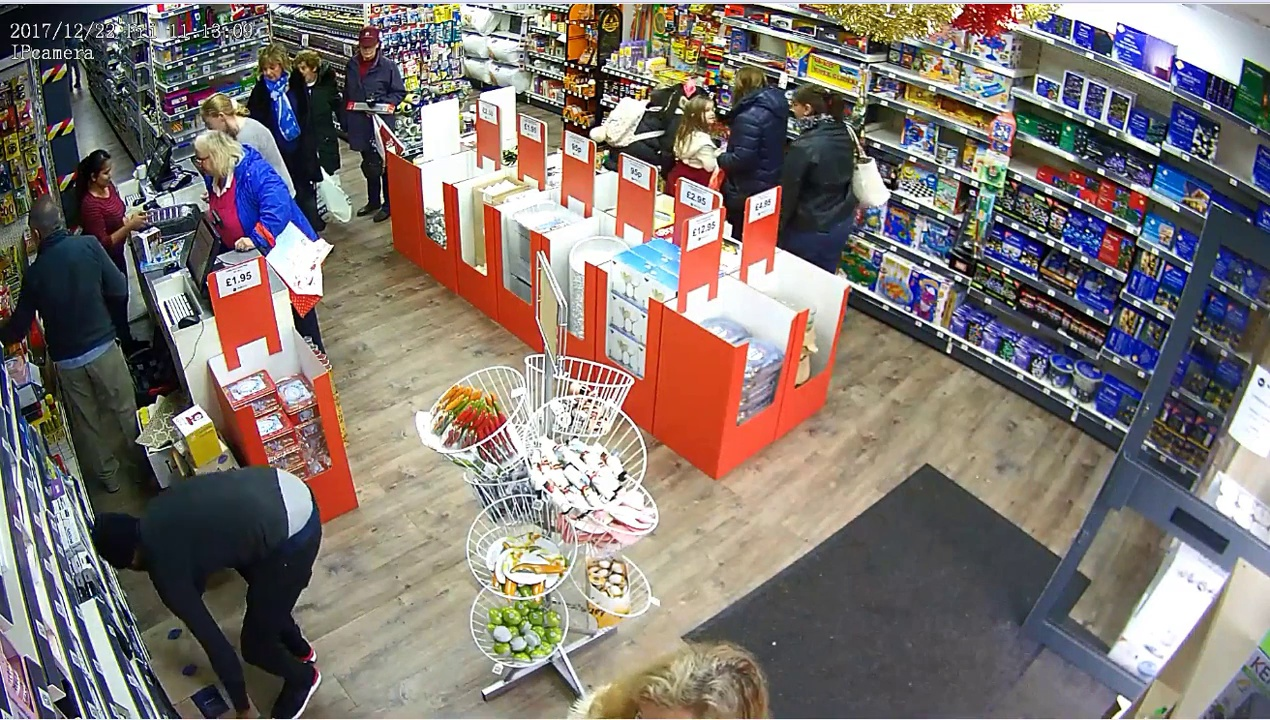face: (192, 138, 219, 173), (257, 51, 281, 82), (89, 159, 111, 187), (289, 55, 312, 75)
